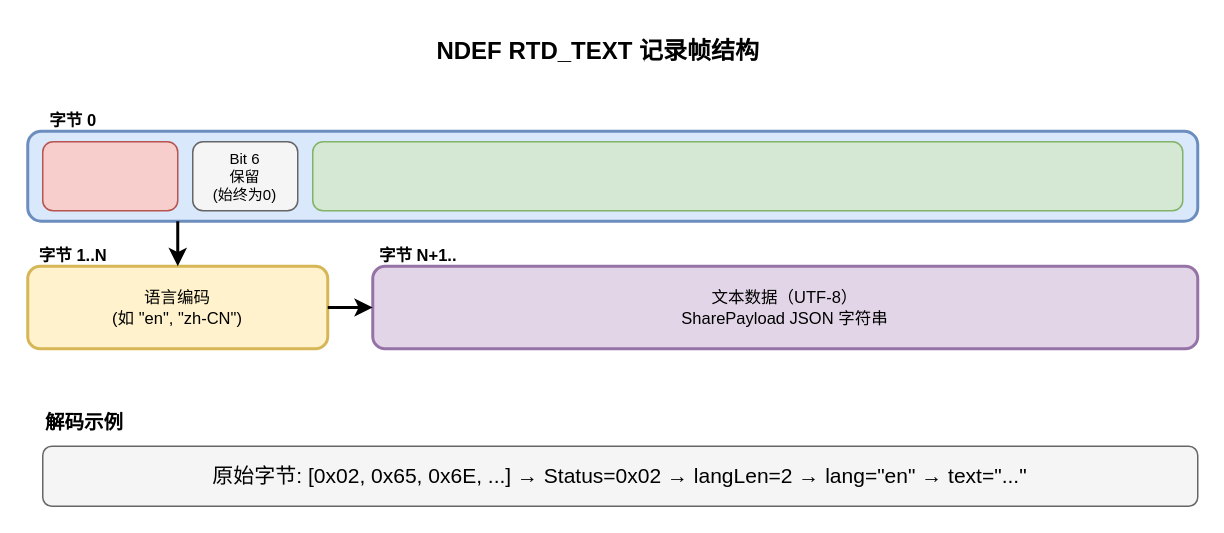
The diagram is 1224 pixels wide and 533 high, and some of its shapes have lost their labels. The centre of each missing label's shape, as x and y in pixels:
Bit 7 UTF指示 0=UTF-8 1=UTF-16: (109,175)
Bits 5-0: 语言编码长度 (如 "en" → 2, "zh" → 2): (747,175)
